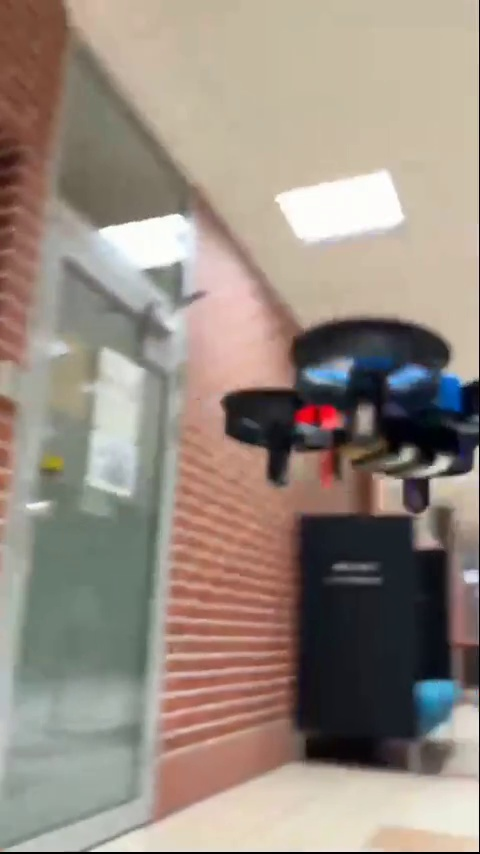drone: (223, 315, 480, 519)
